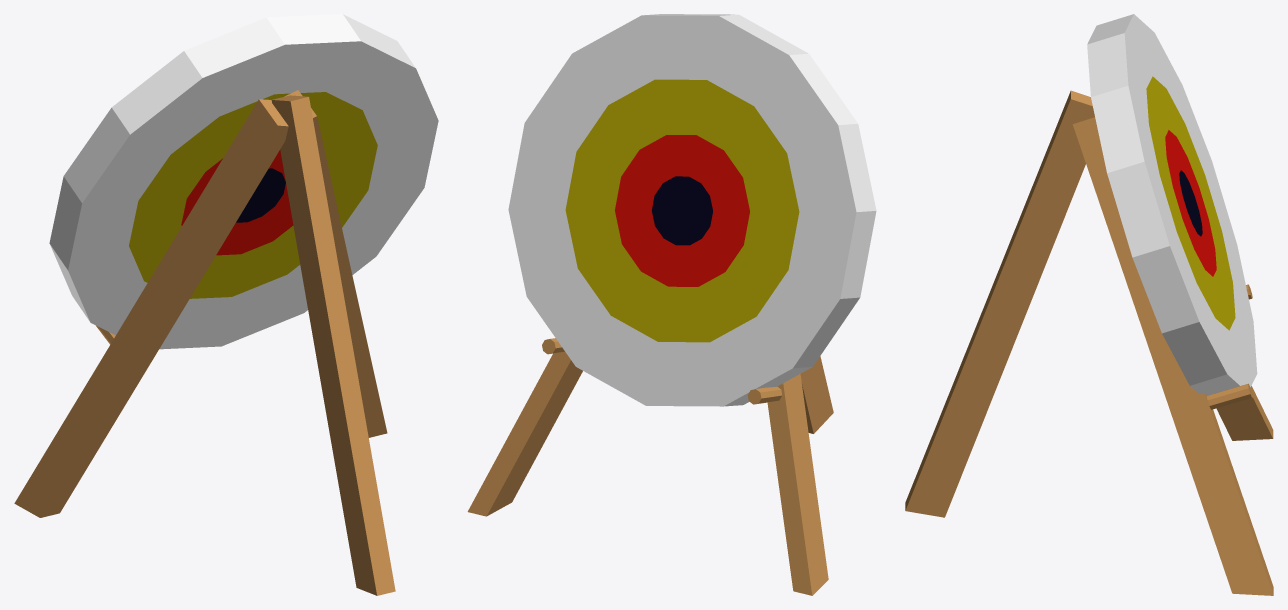
File: Zielscheibe.fbx
3 views of the same model, side by side, from view 1: azimuth 30°, elevation 25°; view 2: azimuth 150°, elevation 25°; view 3: azimuth 270°, elevation 25° (orthographic). The views are drawn at different scales.
Visible parts, largest first — view 1: Zielscheibe; view 2: Zielscheibe; view 3: Zielscheibe.
Boxes of the visible parts, x1,y1,x2,y2 form: Zielscheibe: [14, 14, 438, 595]; Zielscheibe: [467, 14, 876, 595]; Zielscheibe: [905, 14, 1273, 595].
Size of the model in its own units: 2.79 by 3.75 by 2.61.
